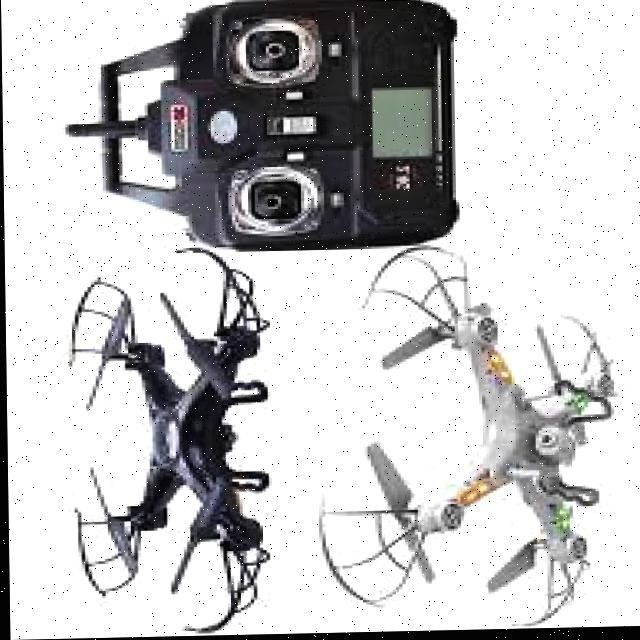drone: (299, 243, 640, 634), (42, 234, 293, 639)
